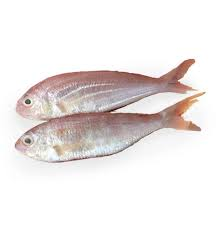Ikan Kerisi: (8, 109, 220, 173), (11, 54, 199, 122)
